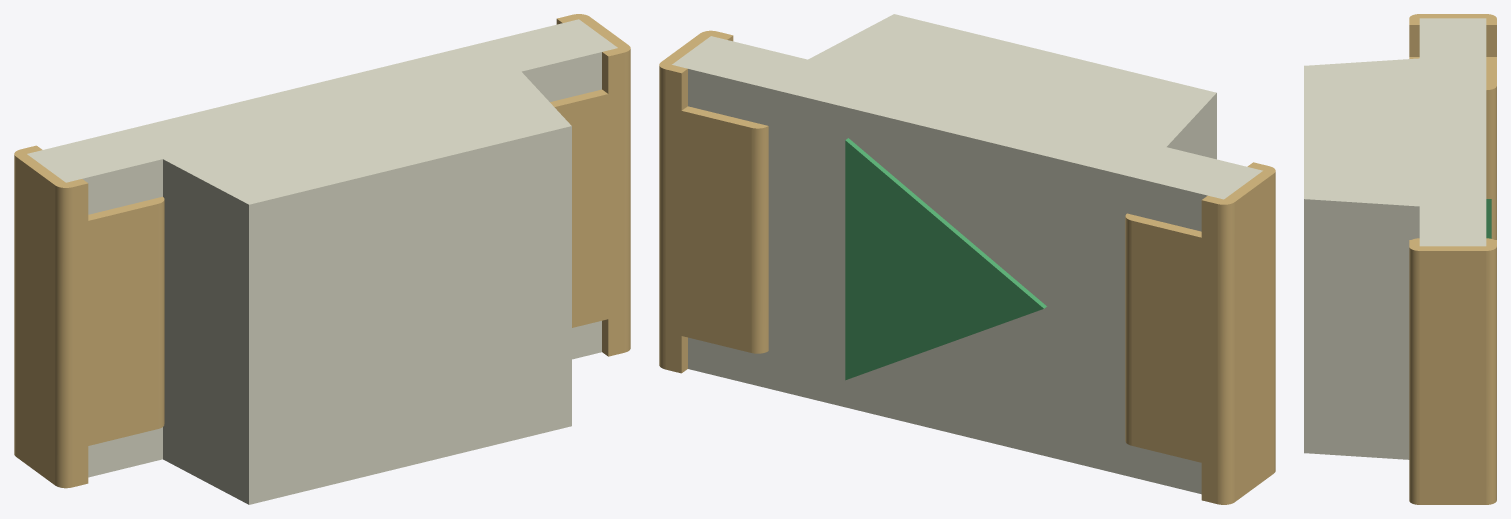
Rendered from LED_SMD_LED_1206_3216Metric.glb.
3 renders of one model, left to right at view 1: azimuth 30°, elevation 25°; view 2: azimuth 150°, elevation 25°; view 3: azimuth 270°, elevation 25°, orthographic. The views are drawn at different scales.
Bounding box in the file's own units: 3.2 × 1.6 × 1.1.
